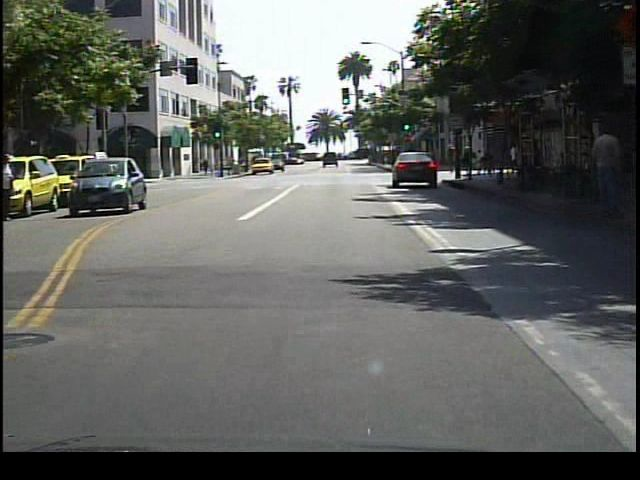person: (586, 122, 623, 228), (6, 149, 21, 226)
